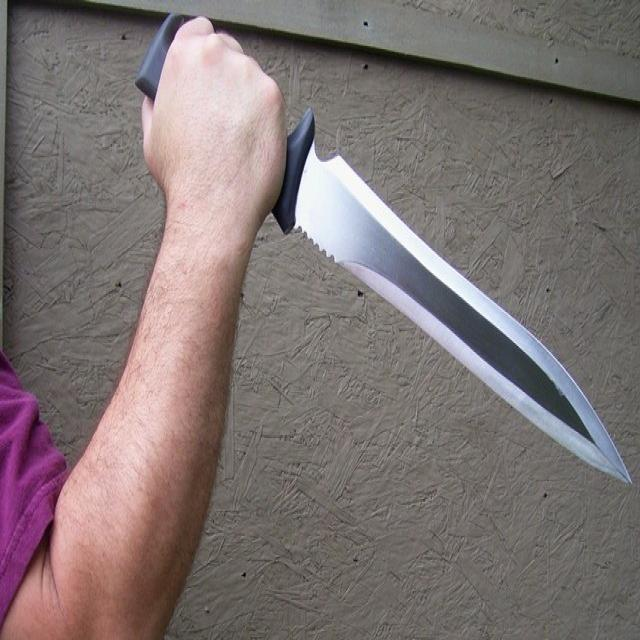knife: (282, 108, 638, 504)
